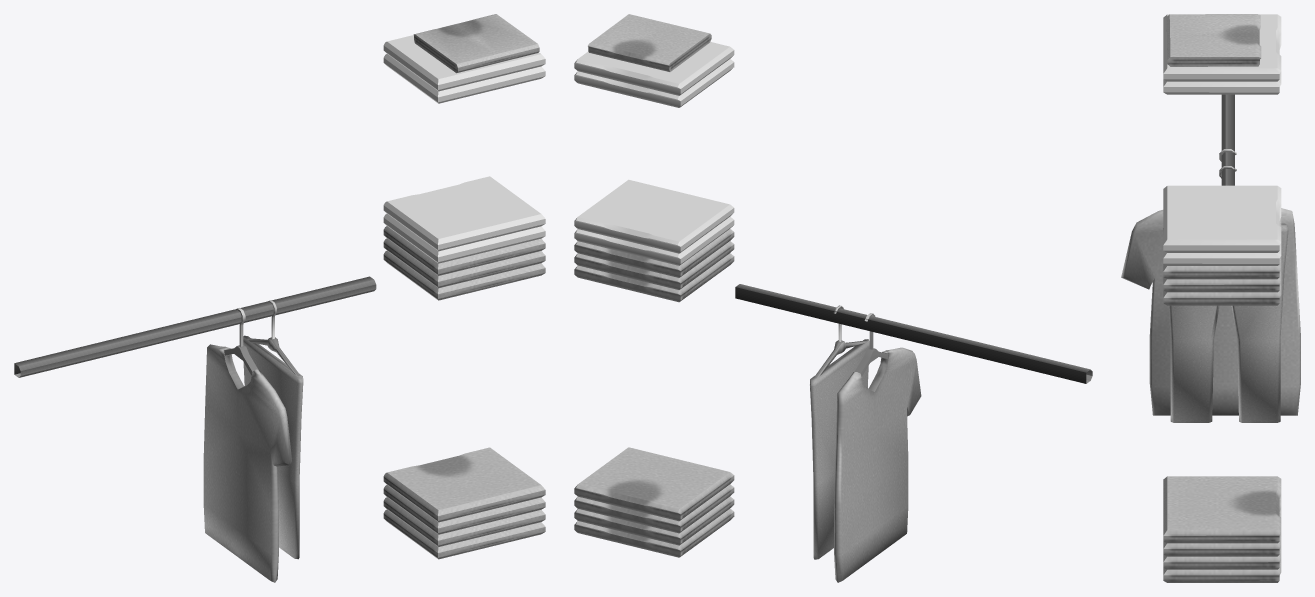
File: schrank_filled.fbx
3 views of the same model, side by side, from view 1: azimuth 30°, elevation 25°; view 2: azimuth 150°, elevation 25°; view 3: azimuth 270°, elevation 25° (orthographic). The views are drawn at different scales.
Visible parts, largest first — view 1: Plane.006, Plane.003, Plane.000, Plane.002, 1.001, Plane.007; view 2: Plane.006, Plane.003, Plane.000, Plane.002, 1.001, Plane.007; view 3: Plane.003, Plane.000, Plane.006, Plane.007, Plane.002, 1.001.
Boxes of the visible parts, left/top/right/bottom form: Plane.006: left=203, top=308, right=291, bottom=582; Plane.003: left=383, top=176, right=545, bottom=300; Plane.000: left=383, top=447, right=545, bottom=559; Plane.002: left=383, top=14, right=545, bottom=103; 1.001: left=14, top=276, right=376, bottom=377; Plane.007: left=243, top=300, right=303, bottom=559; Plane.006: left=834, top=313, right=921, bottom=582; Plane.003: left=574, top=179, right=734, bottom=302; Plane.000: left=574, top=447, right=734, bottom=557; Plane.002: left=574, top=14, right=734, bottom=107; 1.001: left=735, top=284, right=1092, bottom=383; Plane.007: left=810, top=305, right=869, bottom=559; Plane.003: left=1163, top=185, right=1281, bottom=305; Plane.000: left=1163, top=476, right=1281, bottom=582; Plane.006: left=1121, top=149, right=1300, bottom=415; Plane.007: left=1162, top=166, right=1288, bottom=422; Plane.002: left=1163, top=14, right=1281, bottom=94; 1.001: left=1221, top=94, right=1234, bottom=185.
Size of the model in its own units: 181 by 170 by 52.88.
